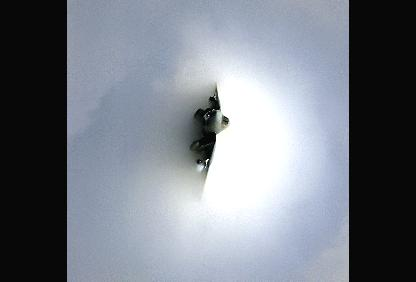EF2000: (190, 80, 232, 202)
